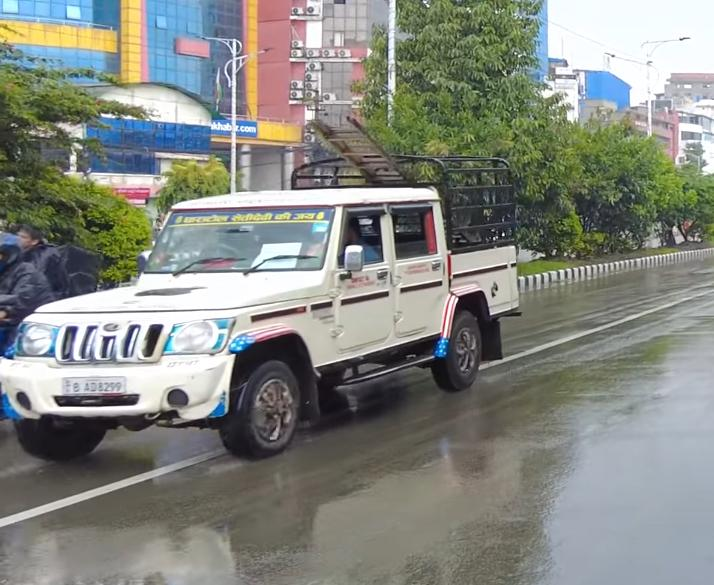transport_vehicle: (0, 135, 532, 465)
